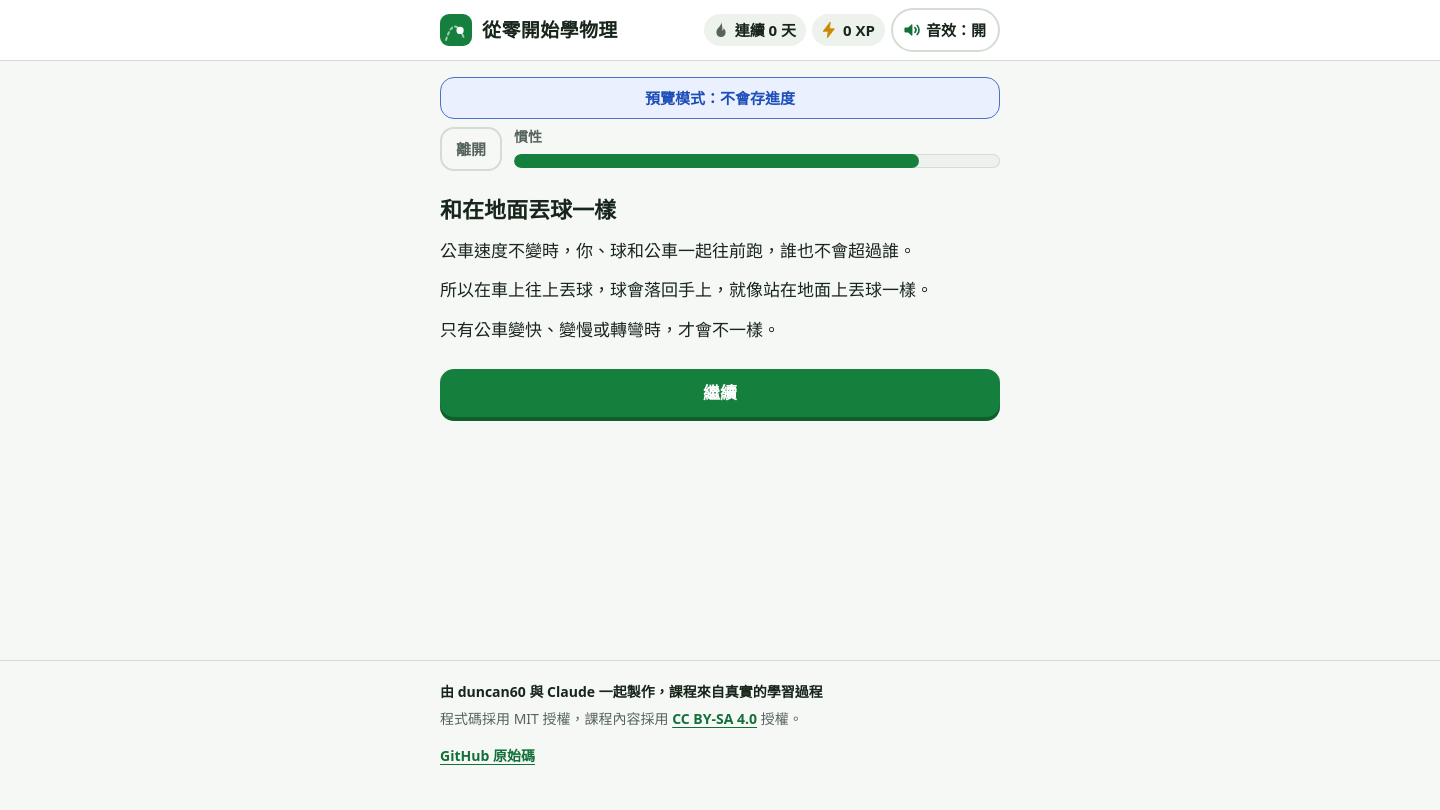
Test: 預覽不讀也不寫課內存檔：有存檔也從指定的那一步開始，沒有「從上次…」；做完也不清掉
Click the button "繼續": (720, 393) x1=440 y1=369 x2=1000 y2=417
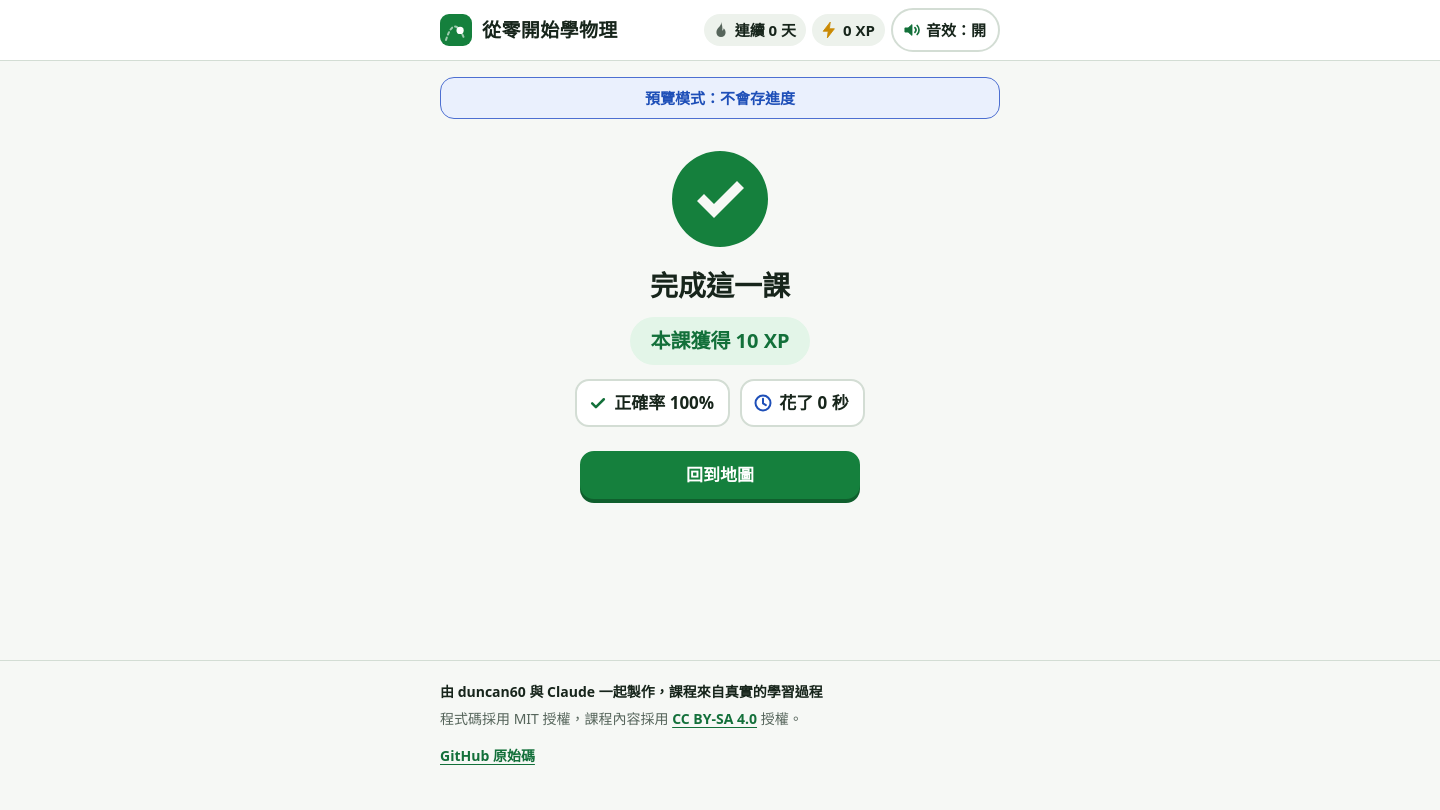
expect the heading "完成這一課" is shown: met, box x1=650 y1=266 x2=790 y2=304
